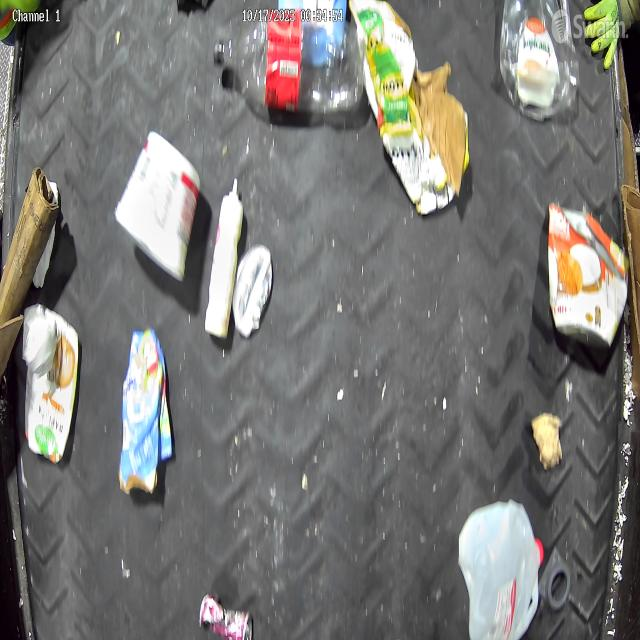can: (548, 202, 630, 348), (200, 593, 254, 640)
milk_jug: (457, 499, 544, 640)
non_white_jug: (120, 328, 172, 494), (24, 305, 78, 463)
plastic_bottle: (213, 9, 364, 110), (501, 0, 579, 118)
